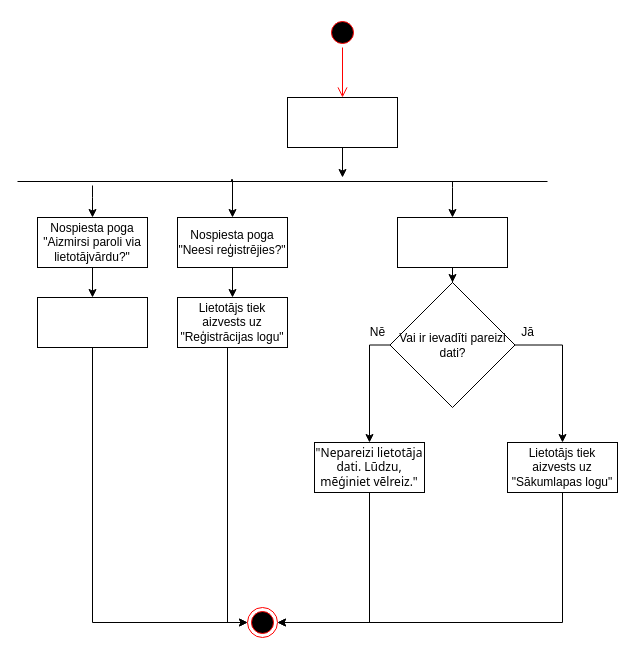
This 635x655 diagram has some shape labels left out. The box of each missing label's shape, as (x1, y1, x2, y2) in pixels:
"Autorizācijas logs": (286, 96, 398, 148)
Lietotājs tiek aizvests uz "Atgūt kontu logu": (36, 296, 148, 348)
Nospiesta poga "Pieslēgties": (396, 216, 508, 268)
